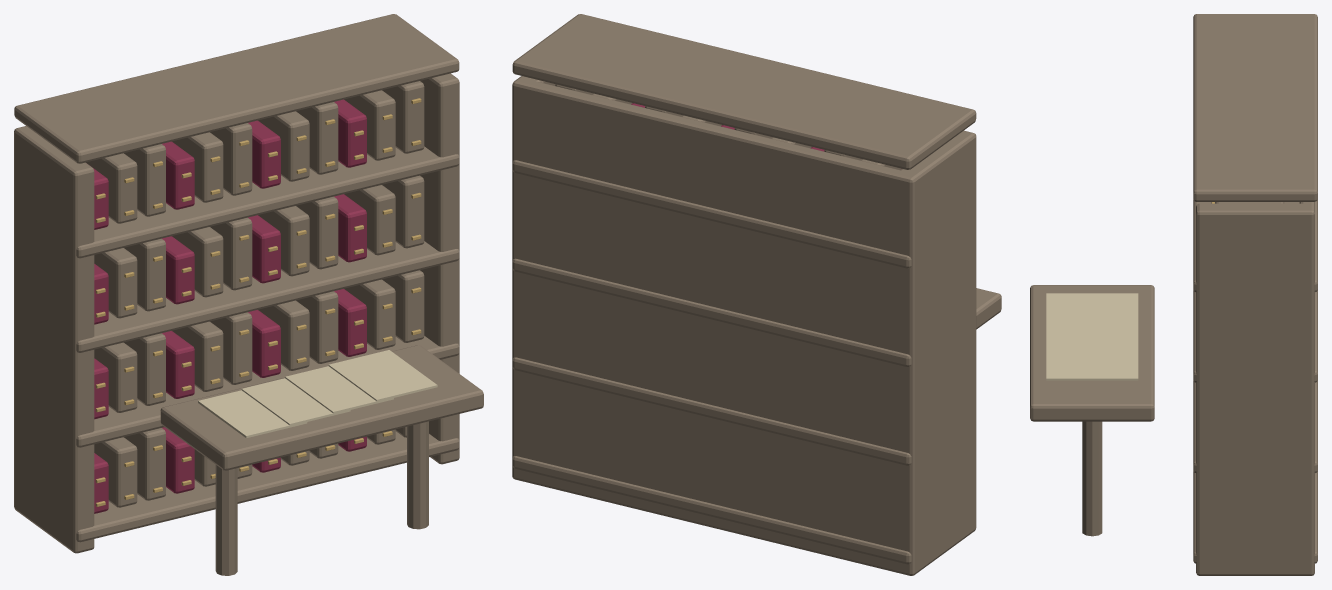
The model's file is a2_archive.glb.
3 views of the same model, side by side, from view 1: azimuth 30°, elevation 25°; view 2: azimuth 150°, elevation 25°; view 3: azimuth 270°, elevation 25° (orthographic). The views are drawn at different scales.
Parts seen in each view (by area): view 1: Body.075; view 2: Body.075; view 3: Body.075.
Part boxes in pixels (x1,y1,x2,y2): Body.075: (14, 14, 483, 575); Body.075: (512, 14, 1001, 575); Body.075: (1030, 14, 1317, 575).
Bounding box in the file's own units: 2.22 × 2.21 × 1.5.
